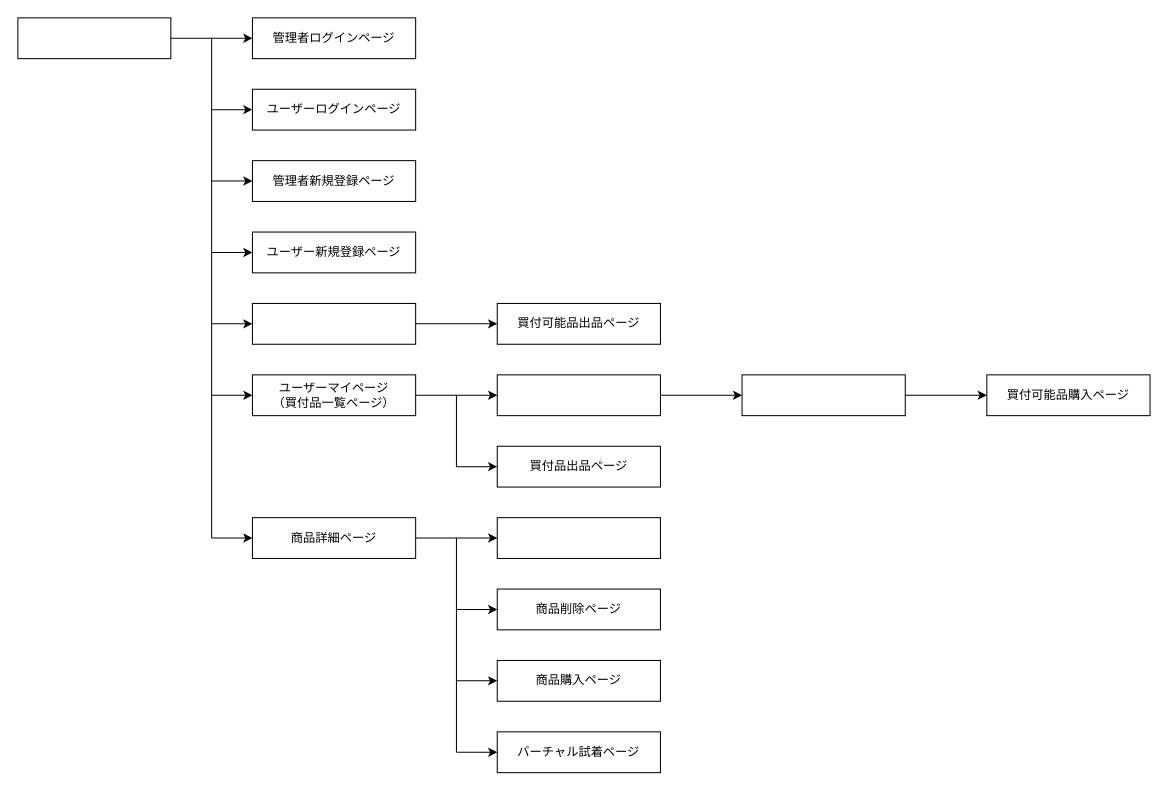
The diagram is 1168 pixels wide and 791 high, and some of its shapes have lost their labels. The shapes that lost their labels are listed below. From the top down, each one's box as (x1, y1, x2, y2) in pixels, then its label:
(17, 17, 171, 59): トップページ
(251, 302, 416, 344): 管理者マイページ
(496, 374, 660, 416): 買付可能品一覧ページ
(741, 374, 905, 416): 買付可能品詳細ページ
(496, 517, 660, 558): 商品編集ページ
